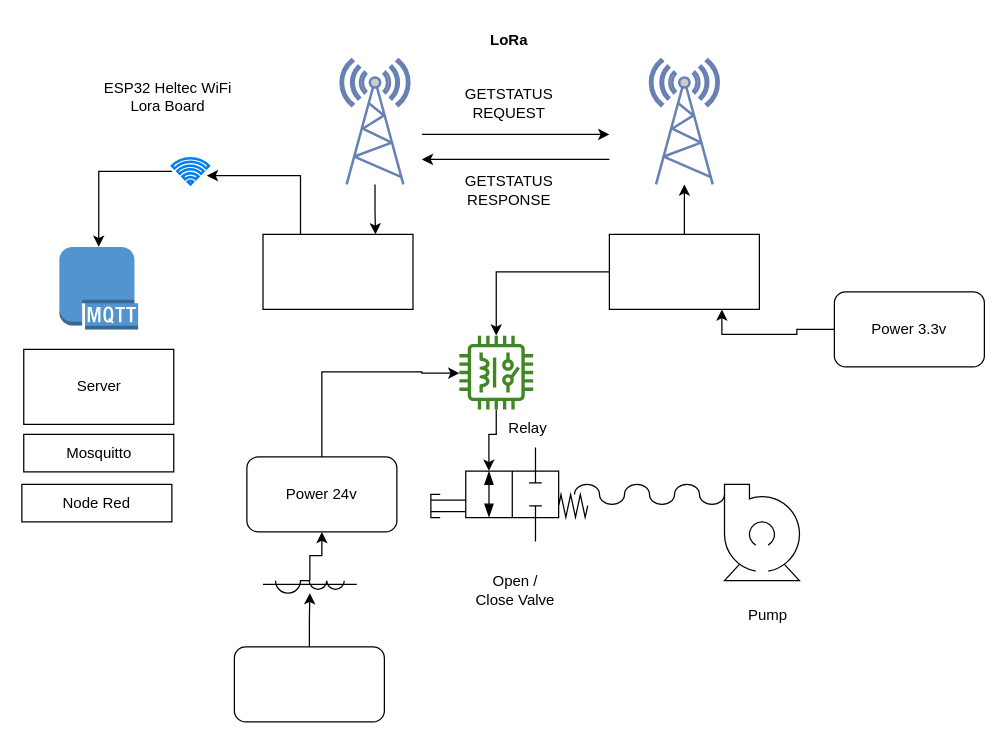
This 1006x744 diagram has some shape labels left out. The shapes that lost their labels are listed below. From the top down, each one's centre as x and y in pixels, then its label:
At point (337, 271): "Receiver ESP32 Heltec WiFi Lora Board".
At point (683, 271): "Sender ESP32 Heltec WiFi Lora Board".
At point (308, 684): "Power 220v".
